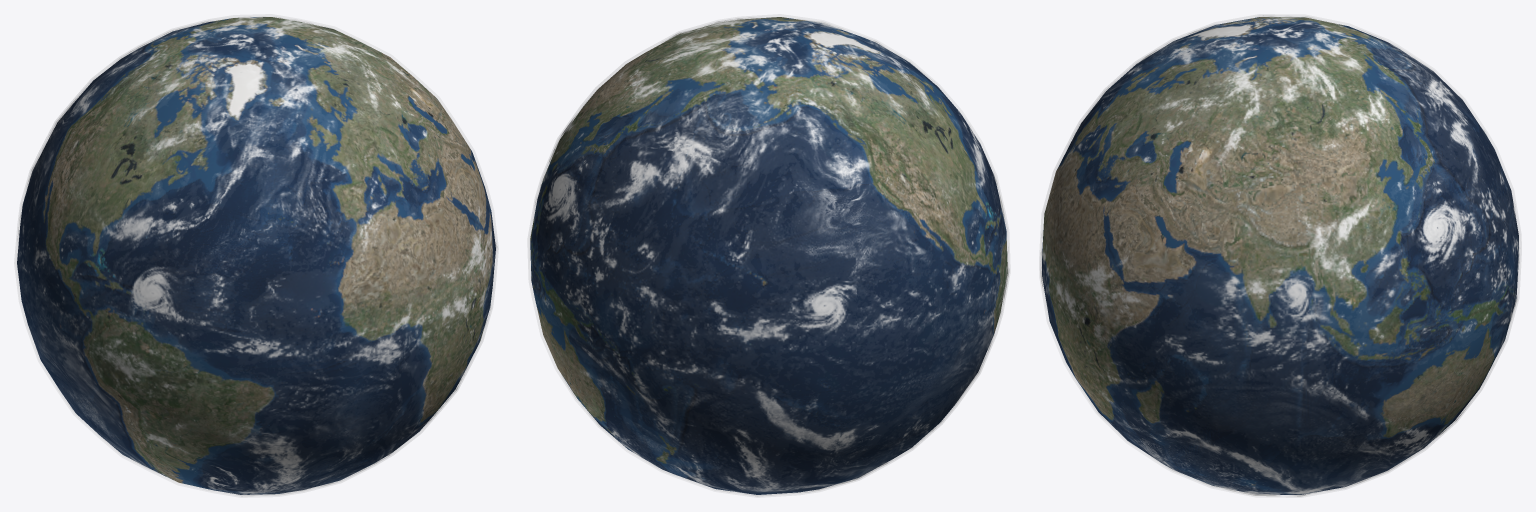
File: earth.glb
3 views of the same model, side by side, from view 1: azimuth 30°, elevation 25°; view 2: azimuth 150°, elevation 25°; view 3: azimuth 270°, elevation 25° (orthographic).
Visible parts, largest first — view 1: Earth_Cube.002, Clouds_Cube.000, Atmosphere_Cube.001; view 2: Earth_Cube.002, Clouds_Cube.000, Atmosphere_Cube.001; view 3: Earth_Cube.002, Clouds_Cube.000, Atmosphere_Cube.001.
Part boxes in pixels (<box>): Earth_Cube.002: <box>17,17,495,494</box>; Clouds_Cube.000: <box>17,16,497,496</box>; Atmosphere_Cube.001: <box>14,14,498,497</box>; Earth_Cube.002: <box>530,17,1007,494</box>; Clouds_Cube.000: <box>530,17,1009,496</box>; Atmosphere_Cube.001: <box>528,14,1009,497</box>; Earth_Cube.002: <box>1042,17,1518,494</box>; Clouds_Cube.000: <box>1040,15,1519,496</box>; Atmosphere_Cube.001: <box>1039,14,1521,497</box>.
Bounding box in the file's own units: 6.39 × 6.41 × 6.39.
Materials: 3 (2 with a texture image).
